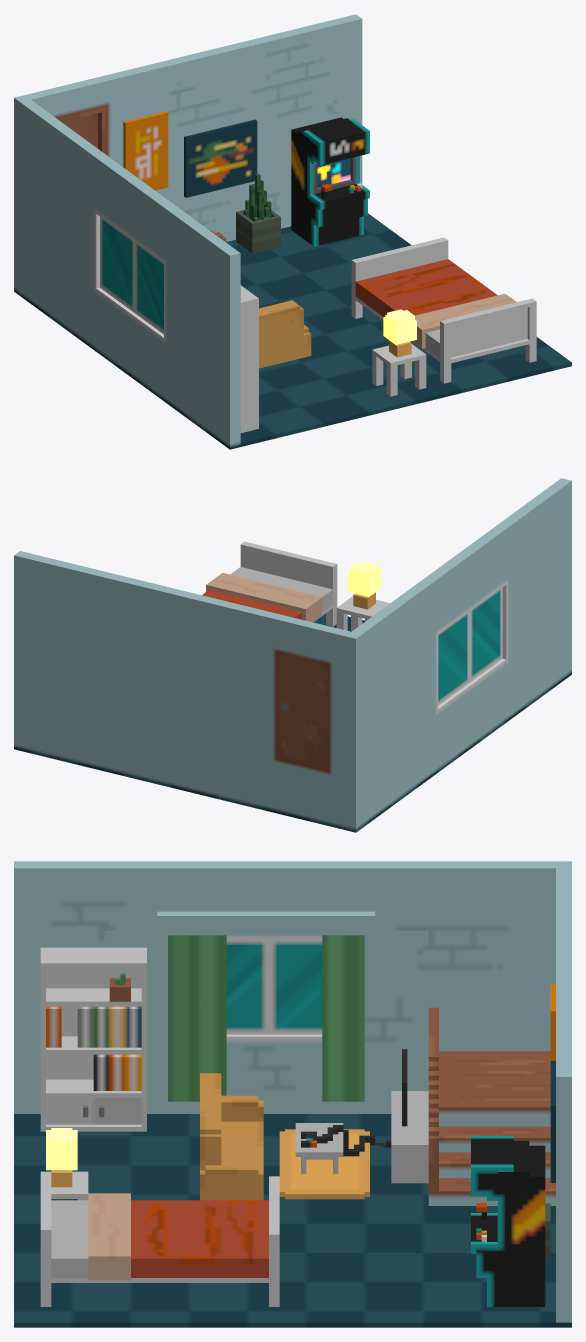
The model's file is BlankFile.dae.
3 views of the same model, one above another, from view 1: azimuth 30°, elevation 25°; view 2: azimuth 150°, elevation 25°; view 3: azimuth 270°, elevation 25° (orthographic). The views are drawn at different scales.
Visible parts, largest first — view 1: pl0; view 2: pl0; view 3: pl0.
Part boxes in pixels (x1,y1,x2,y2): pl0: (14, 14, 571, 449); pl0: (14, 478, 571, 832); pl0: (14, 861, 571, 1327).
Bounding box in the file's own units: 96 × 105 × 52.
Materials: 1 (1 with a texture image).
